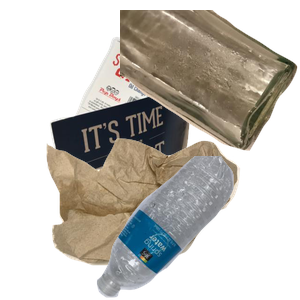glass: (120, 10, 300, 153)
paper: (45, 34, 230, 214)
plastic: (94, 156, 300, 300)
trash: (44, 136, 277, 300)
